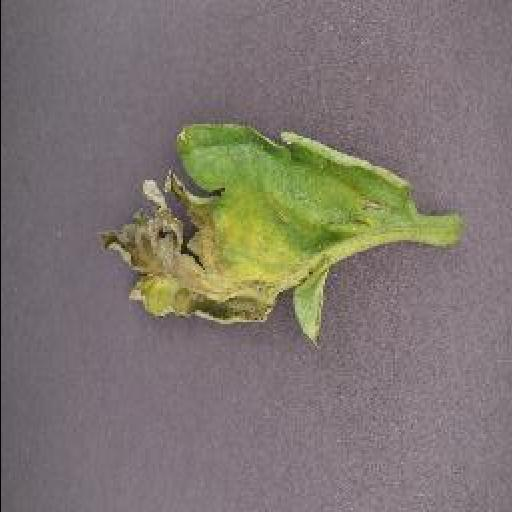disease_tomato: (102, 122, 426, 342)
